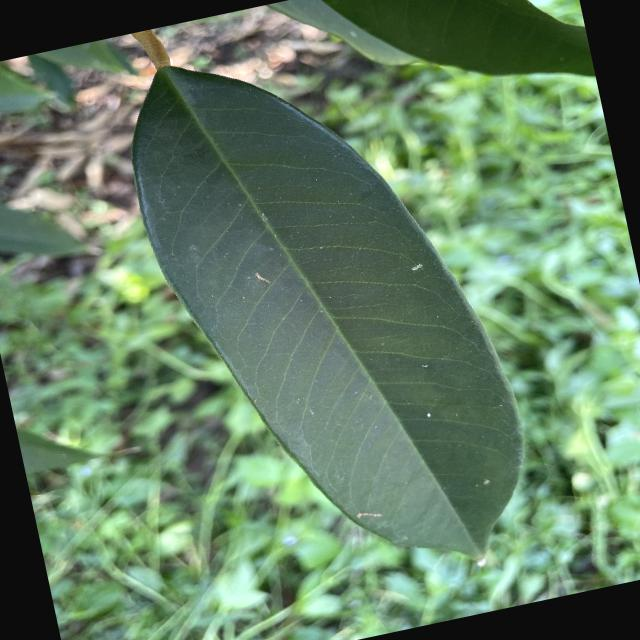No Disease: (100, 0, 559, 624)
